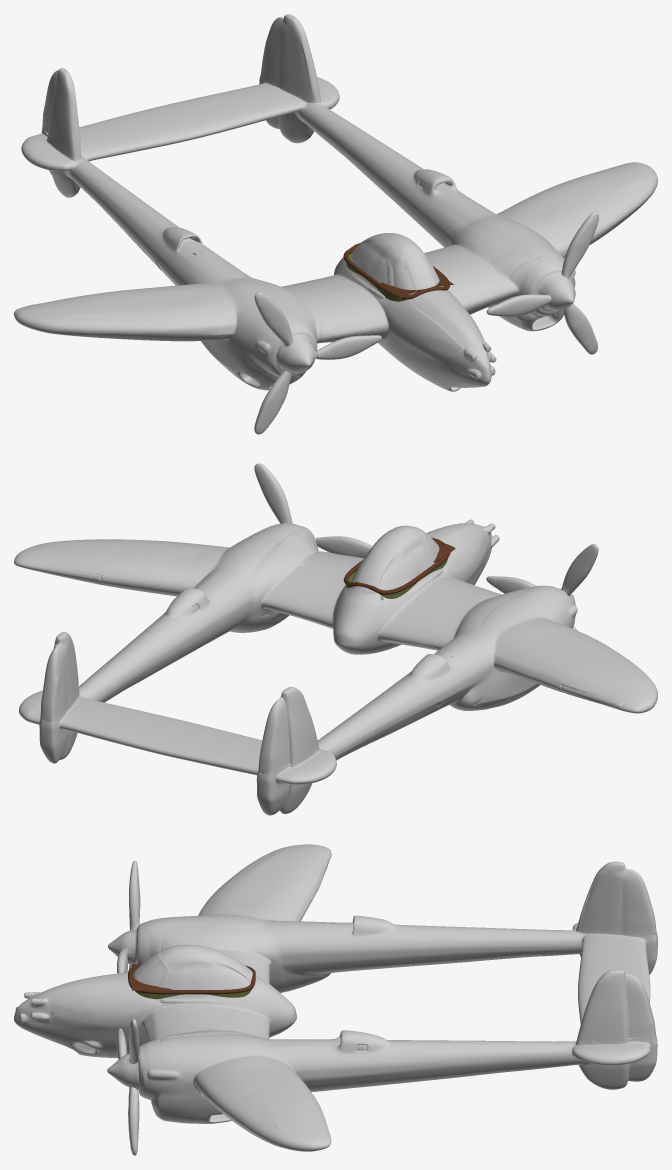
3 renders of one model, top to bottom at view 1: azimuth 30°, elevation 25°; view 2: azimuth 150°, elevation 25°; view 3: azimuth 270°, elevation 25°, orthographic. The views are drawn at different scales.
Visible parts, largest first — view 1: P38_Body, P38_PropL, P38_PropR, P38_Canopy, Pit_Static, P38_ElevatorR; view 2: P38_Body, P38_Canopy, P38_PropR, P38_AileronL, P38_ElevatorR, P38_AileronR, P38_RudderR, P38_PropL, P38_ElevatorL, Pit_Static; view 3: P38_Body, P38_Canopy, P38_PropR, P38_RudderL, P38_PropL, Pit_Static, P38_AileronR, P38_ElevatorR, P38_AileronL.
Boxes of the visible parts, x1,y1,x2,y2 form: P38_Body: (14, 14, 657, 391); P38_PropL: (254, 292, 381, 434); P38_PropR: (486, 212, 598, 354); P38_Canopy: (352, 233, 441, 296); Pit_Static: (343, 243, 453, 301); P38_ElevatorR: (79, 107, 171, 134); P38_Body: (14, 519, 657, 815); P38_Canopy: (352, 525, 439, 590); P38_PropR: (254, 463, 372, 557); P38_AileronL: (37, 550, 142, 591); P38_ElevatorR: (161, 736, 259, 773); P38_AileronR: (532, 664, 630, 707); P38_RudderR: (269, 698, 300, 771); P38_PropL: (486, 544, 598, 630); P38_ElevatorL: (72, 714, 157, 753); Pit_Static: (343, 537, 455, 598); P38_Body: (14, 844, 657, 1151); P38_Canopy: (133, 944, 252, 989); P38_PropR: (107, 1019, 140, 1155); P38_RudderL: (617, 976, 655, 1040); P38_PropL: (108, 860, 140, 973); Pit_Static: (128, 964, 255, 999); P38_AileronR: (297, 850, 329, 906); P38_ElevatorR: (620, 943, 650, 987); P38_AileronL: (301, 1085, 329, 1132).
Bounding box in the file's own units: 15.84 × 4.02 × 14.48.
